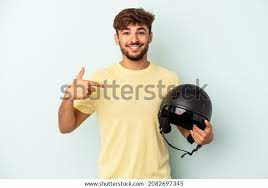helmets: (157, 82, 218, 157)
